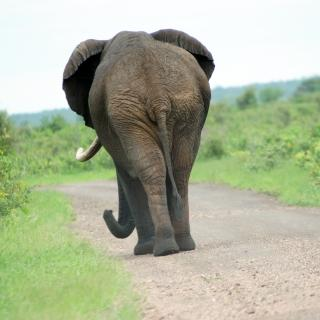Elephant: (58, 27, 222, 259)
